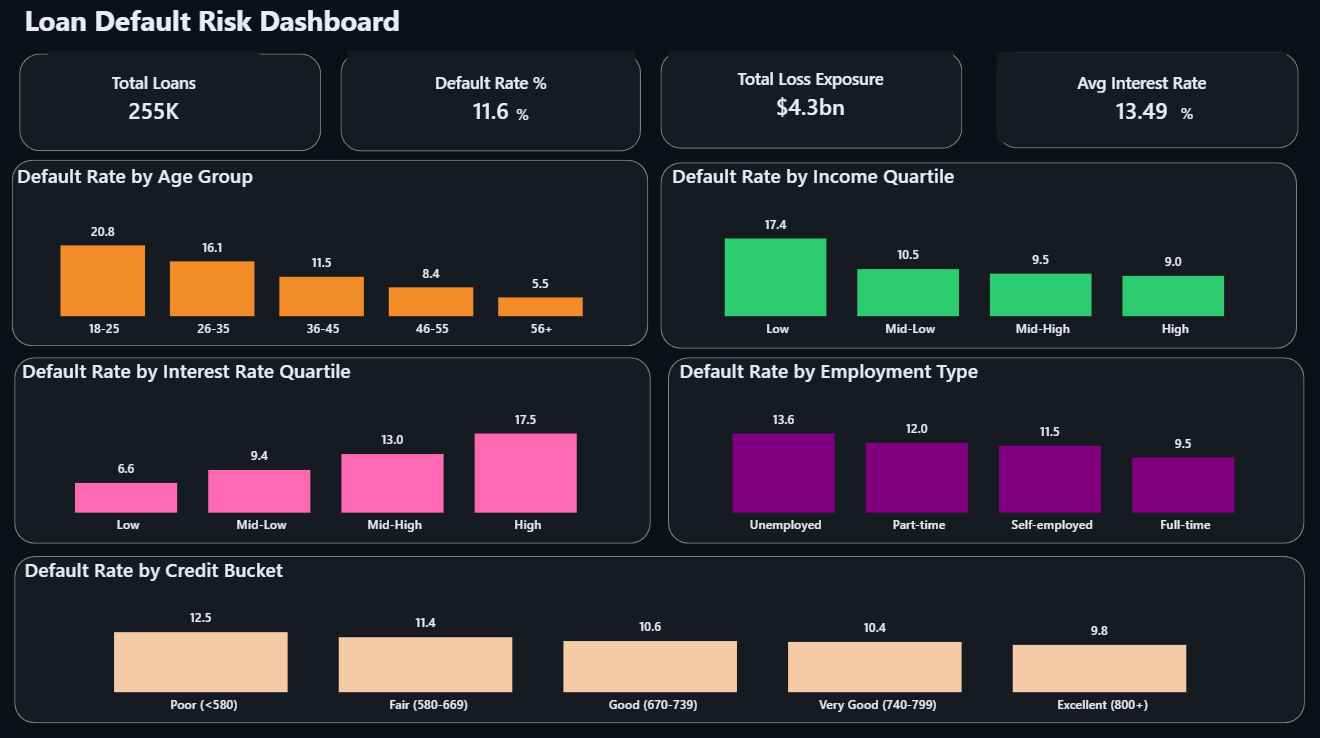

What the dashboard file says about the page in this screenshot:
{"tool":"powerbi","page":{"name":"Loan default risk dashboard","canvas":[1280,720],"ordinal":1},"visuals":[{"type":"shape","box":[20,55.7,291.4,94.3],"z":0},{"type":"shape","box":[640,52.9,291.4,94.3],"z":1000},{"type":"shape","box":[330,54.3,290,95.7],"z":2000},{"type":"shape","box":[964.3,54.3,291.4,92.9],"z":3000},{"type":"textbox","box":[20,0,395.7,48.6],"z":4000},{"type":"cardVisual","title":"Total Loans","fields":{"Data":["Loan_default_cleaned.Total Loans"]},"box":[48.3,53.1,204.3,90],"z":5000},{"type":"cardVisual","fields":{"Data":["Loan_default_cleaned.Default Rate %"]},"box":[336.6,53.1,278.6,90],"z":6000},{"type":"cardVisual","fields":{"Data":["Loan_default_cleaned.Total Loss Exposure"]},"box":[646.7,53.1,275.1,82],"z":7000},{"type":"cardVisual","fields":{"Data":["Loan_default_cleaned.Avg Interest Rate"]},"box":[964.3,54.3,280,87.1],"z":8000},{"type":"textbox","box":[475.7,100,61.4,34.3],"z":9000},{"type":"textbox","box":[1104.3,98.6,87.1,35.7],"z":10000},{"type":"shape","box":[12.9,158.6,614.3,180],"z":11000},{"type":"shape","box":[640,160,614.3,180],"z":12000},{"type":"clusteredColumnChart","title":"Default Rate by Age Group","fields":{"Category":["Loan_default_cleaned.AgeBucket"],"Y":["Loan_default_cleaned.Default Rate %"]},"box":[12.9,160,601.4,178.6],"z":13000},{"type":"clusteredColumnChart","title":"Default Rate by Income Quartile","fields":{"Category":["Loan_default_cleaned.IncomeBucket"],"Y":["Loan_default_cleaned.Default Rate %"]},"box":[645.7,160,598.6,178.6],"z":14000},{"type":"shape","box":[15.7,348.6,614.3,180],"z":15000},{"type":"shape","box":[647.1,348.6,614.3,180],"z":16000},{"type":"clusteredColumnChart","title":"Default Rate by Interest Rate Quartile","fields":{"Category":["Loan_default_cleaned.InterestRateBucket"],"Y":["Loan_default_cleaned.Default Rate %"]},"box":[18.6,348.6,601.4,180],"z":17000},{"type":"clusteredColumnChart","title":"Default Rate by Employment Type","fields":{"Category":["Loan_default_cleaned.EmploymentType"],"Y":["Loan_default_cleaned.Default Rate %"]},"box":[652.9,348.6,601.4,180],"z":18000},{"type":"shape","box":[15.7,540,1245.7,161.4],"z":19000},{"type":"clusteredColumnChart","title":"Default Rate by Credit Bucket","fields":{"Y":["Loan_default_cleaned.Default Rate %"],"Category":["Loan_default_cleaned.CreditBucket"]},"box":[20,540,1224.3,161.4],"z":20000}]}

Visuals, with their boxes in screenshot pixels (x1, y1, x2, y2), scaled from the page's 1280x720 canvas onto the 1320x738 screenshot:
shape: (21,57,321,154)
shape: (660,54,961,151)
shape: (340,56,639,154)
shape: (994,56,1295,151)
textbox: (21,0,429,50)
"Total Loans" cardVisual: (50,54,260,147)
cardVisual - Loan_default_cleaned.Default Rate %: (347,54,634,147)
cardVisual - Loan_default_cleaned.Total Loss Exposure: (667,54,951,138)
cardVisual - Loan_default_cleaned.Avg Interest Rate: (994,56,1283,145)
textbox: (491,102,554,138)
textbox: (1139,101,1229,138)
shape: (13,163,647,347)
shape: (660,164,1293,348)
"Default Rate by Age Group" clusteredColumnChart: (13,164,633,347)
"Default Rate by Income Quartile" clusteredColumnChart: (666,164,1283,347)
shape: (16,357,650,542)
shape: (667,357,1301,542)
"Default Rate by Interest Rate Quartile" clusteredColumnChart: (19,357,639,542)
"Default Rate by Employment Type" clusteredColumnChart: (673,357,1293,542)
shape: (16,554,1301,719)
"Default Rate by Credit Bucket" clusteredColumnChart: (21,554,1283,719)
